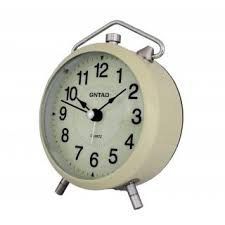alarm_clock: (37, 20, 183, 209), (46, 20, 183, 209)
